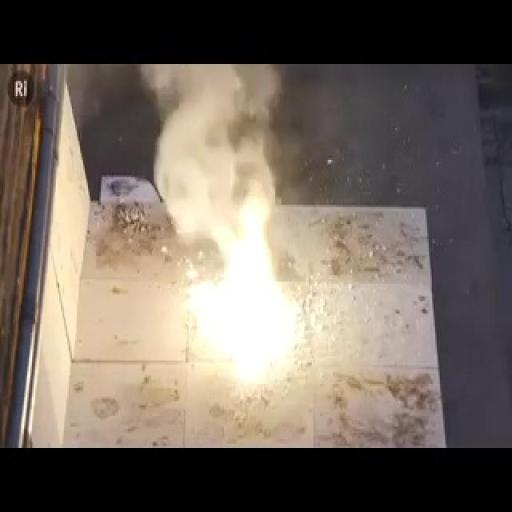smoke: (184, 134, 293, 384)
